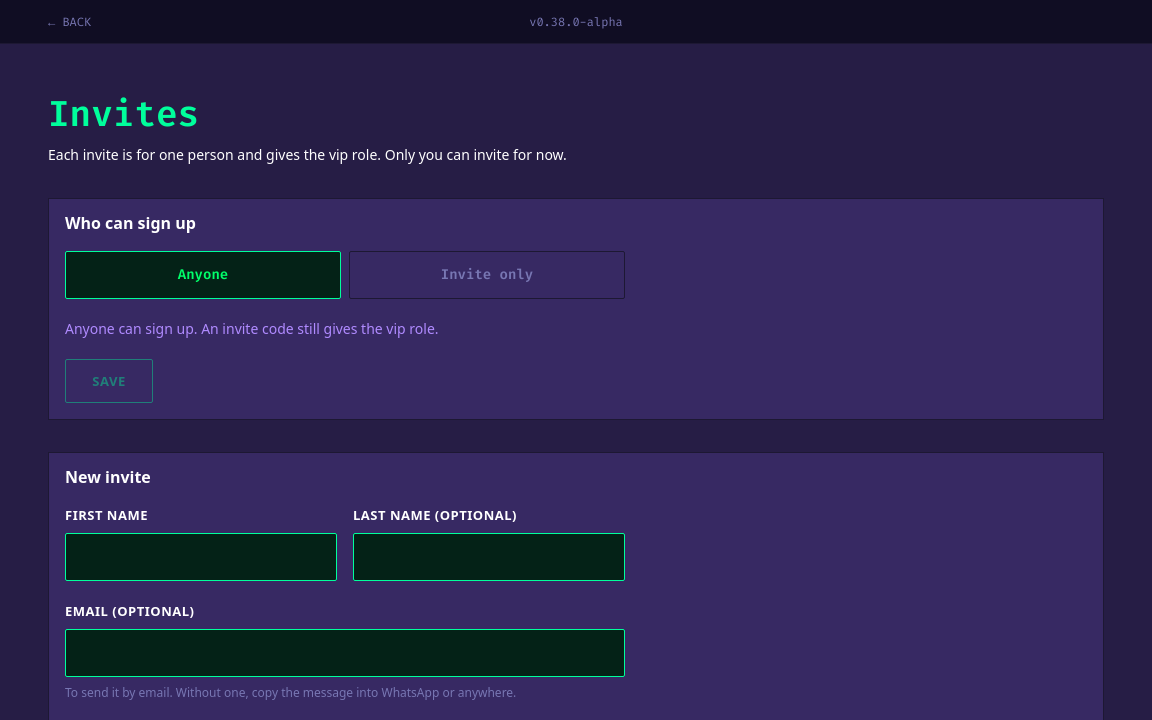
Test: AdminInvites › switches sign-ups to invite only
The width and height of the screenshot is (1152, 720).
What coordinates should you click on to do the following:
click the radio button labelled "Invite only"
I would click on:
 (487, 275)
Its box is left=349, top=251, right=625, bottom=299.
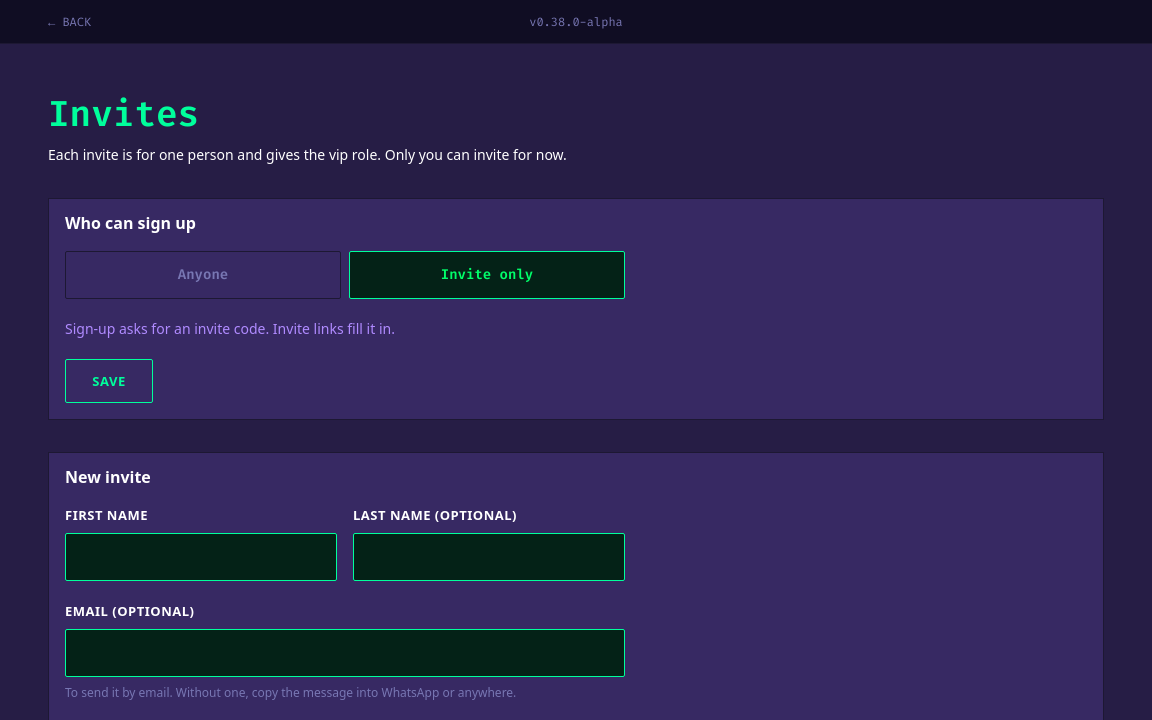
What coordinates should you click on to do the following:
click the button "Save"
I would click on:
 (109, 381)
Its box is left=65, top=359, right=153, bottom=403.
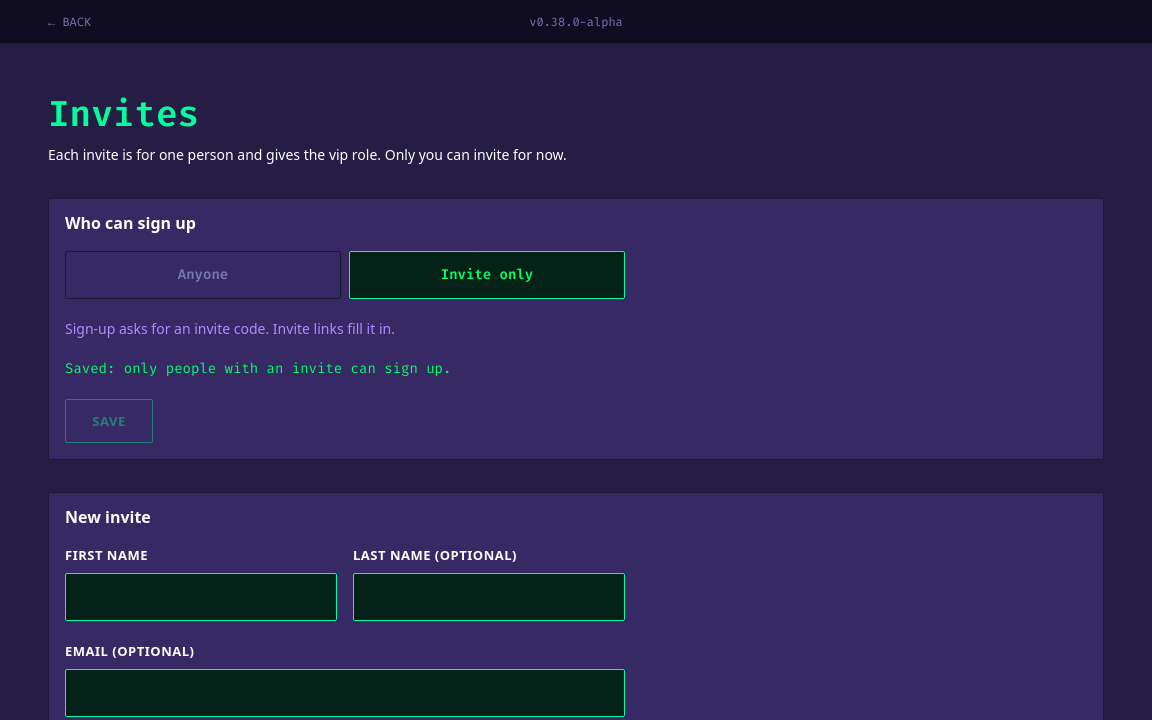
Now the text "Saved: only people with an invite can sign up." is shown, box left=65, top=359, right=451, bottom=378
